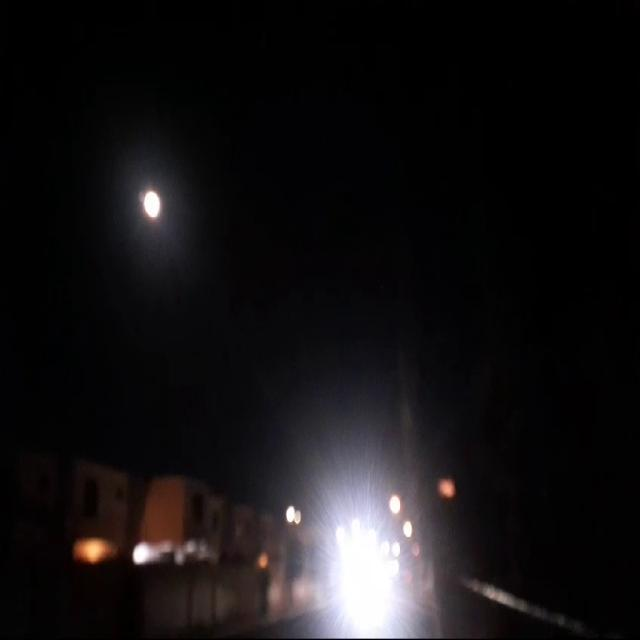moon: (146, 176, 167, 212)
